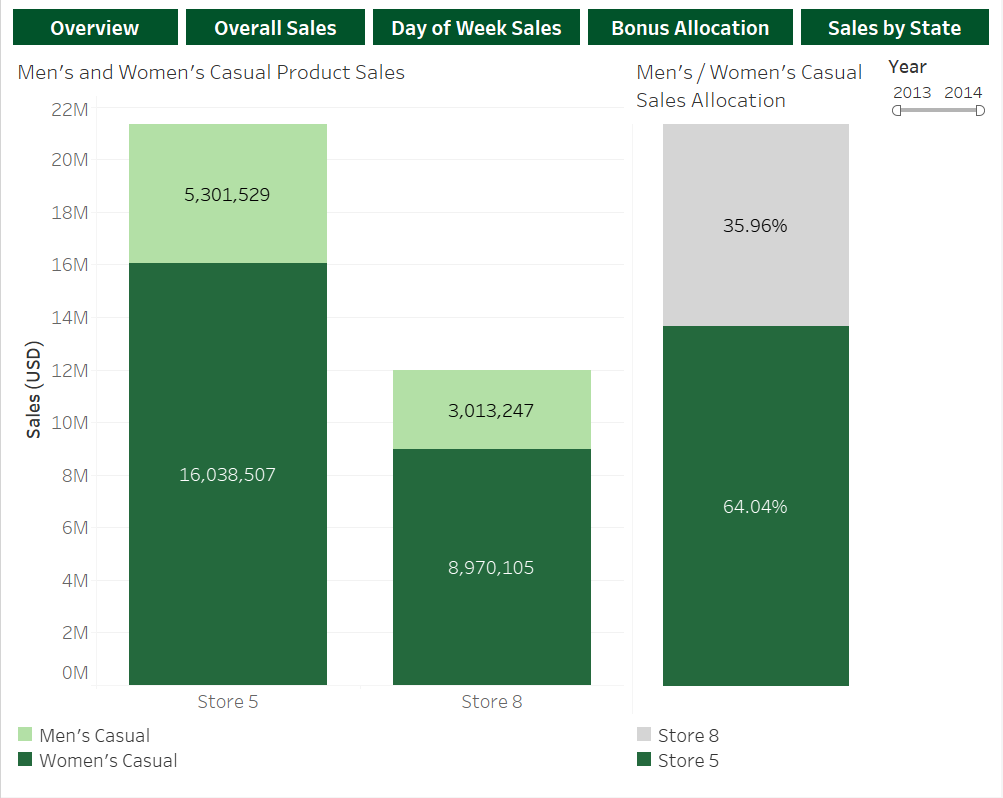

Layout of this report page (visuals, bound fields, positions):
{"tool":"tableau","page":{"name":"Bonus Allocation","canvas":[1000,800],"ordinal":0},"visuals":[{"type":"dashboard-object","box":[8,8,173,44]},{"type":"dashboard-object","box":[181,8,187,44]},{"type":"dashboard-object","box":[368,8,215,44]},{"type":"dashboard-object","box":[583,8,213,44]},{"type":"dashboard-object","box":[796,8,196,44]},{"type":"worksheet","title":"Sheet 5","mark":"Automatic","rows":["TOTALSALES"],"cols":["STORENAME"],"box":[8,52,619,669.2]},{"type":"worksheet","title":"Sheet 6","mark":"Automatic","rows":["TOTALSALES"],"box":[627,52,256,669.2]},{"type":"filter","title":"Sheet 6","param":"[federated.1ld0mg40jkbz5j1c2tbfz1tygjmd].[none:YEAR:qk]","box":[883,52,109,669.2]},{"type":"legend","title":"Sheet 5","param":"[federated.0ay6p1i0srvdq614s8j370q6xabi].[none:PRODUCTTYPE:nk]","box":[8,721.2,619,70.8]},{"type":"legend","title":"Sheet 6","param":"[federated.0ay6p1i0srvdq614s8j370q6xabi].[none:STORENAME:ok]","box":[627,721.2,365,70.8]}]}

Visuals, with their boxes in screenshot pixels (x1, y1, x2, y2), scaled from the page's 1000x800 canvas onto the 1003x798 screenshot:
dashboard-object: [8,8,182,52]
dashboard-object: [182,8,369,52]
dashboard-object: [369,8,585,52]
dashboard-object: [585,8,798,52]
dashboard-object: [798,8,995,52]
"Sheet 5" worksheet: [8,52,629,719]
"Sheet 6" worksheet: [629,52,886,719]
"Sheet 6" filter: [886,52,995,719]
"Sheet 5" legend: [8,719,629,790]
"Sheet 6" legend: [629,719,995,790]
